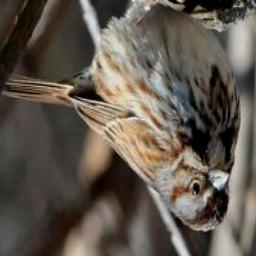Sparrow: (0, 0, 241, 236)
